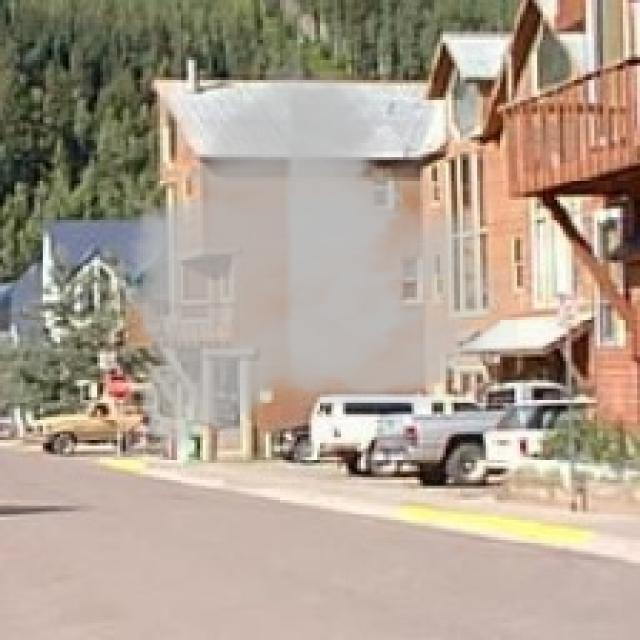Smoke: (111, 49, 518, 472)
